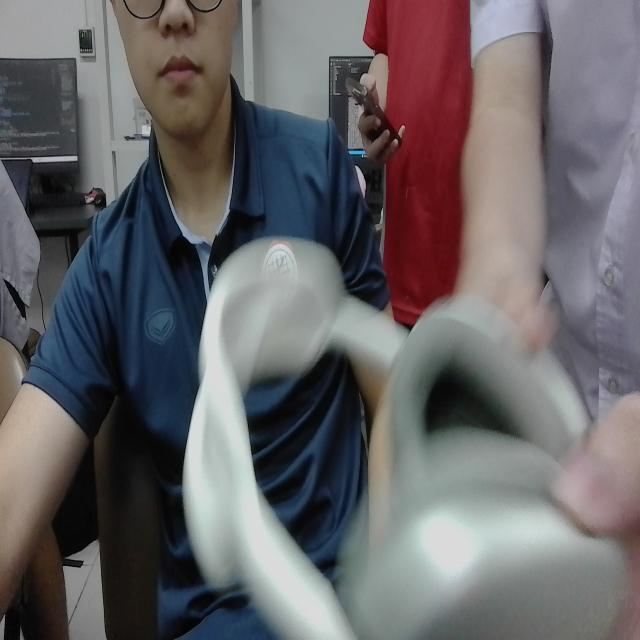airpods max: (173, 200, 636, 640)
